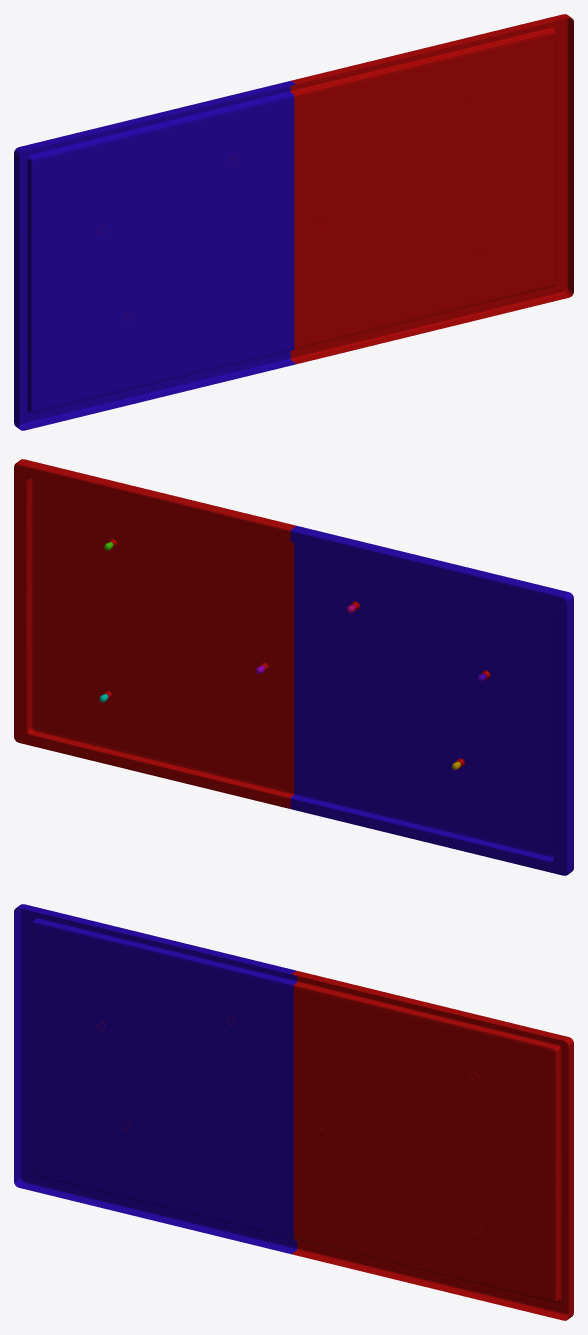
Rendered from Map_Pass1.fbx.
3 views of the same model, one above another, from view 1: azimuth 30°, elevation 25°; view 2: azimuth 150°, elevation 25°; view 3: azimuth 330°, elevation 25° (orthographic).
Parts seen in each view (by area): view 1: Map_4; view 2: Map_4, MapPass1; view 3: Map_4.
Boxes of the visible parts, <box> form: Map_4: <box>14,14,573,430</box>; Map_4: <box>14,459,573,875</box>; MapPass1: <box>99,538,490,769</box>; Map_4: <box>14,904,573,1320</box>.
Bounding box in the file's own units: 240 × 116 × 7.13.
